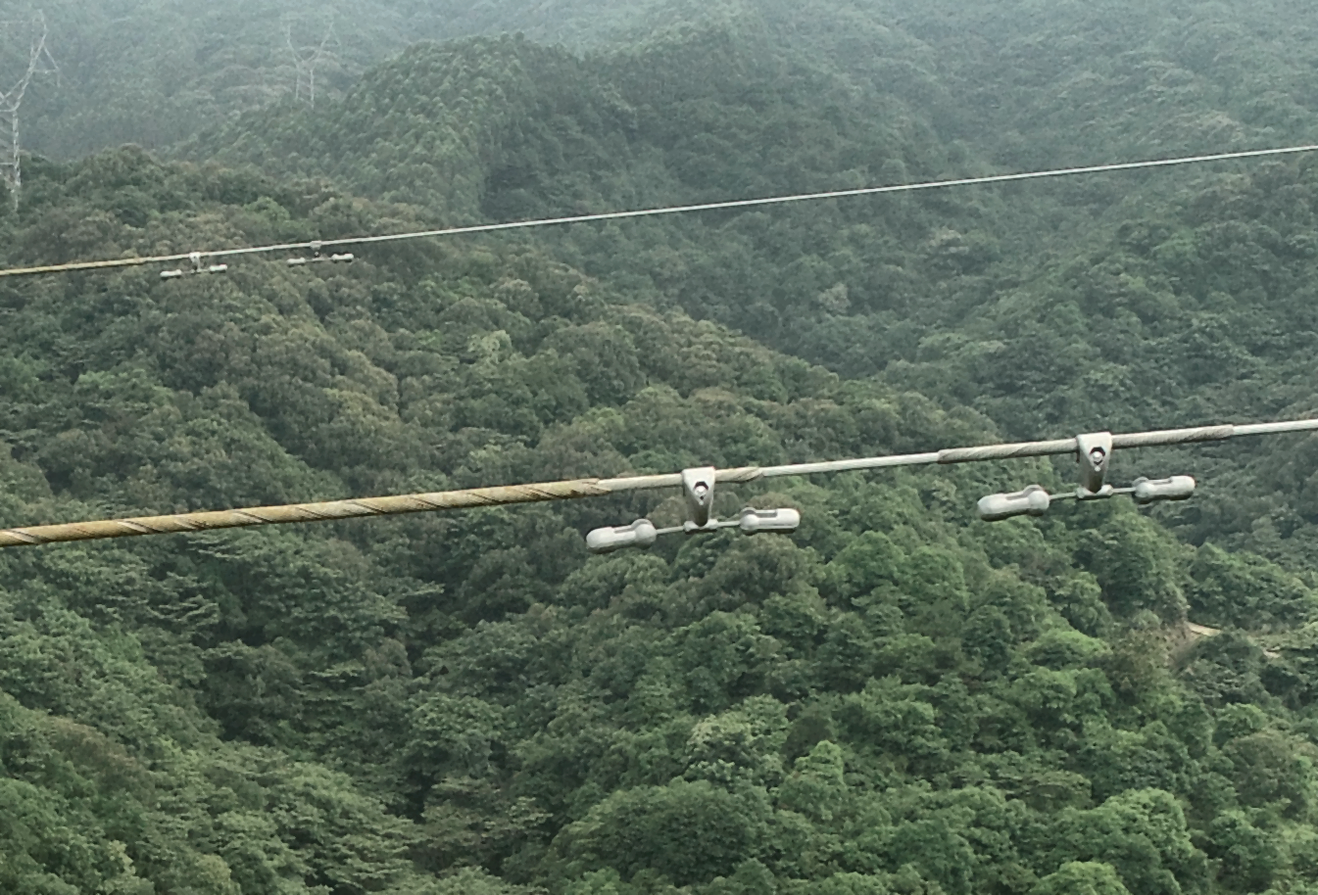damper: (572, 458, 805, 560), (972, 423, 1197, 525), (280, 234, 356, 268), (157, 248, 229, 280)
